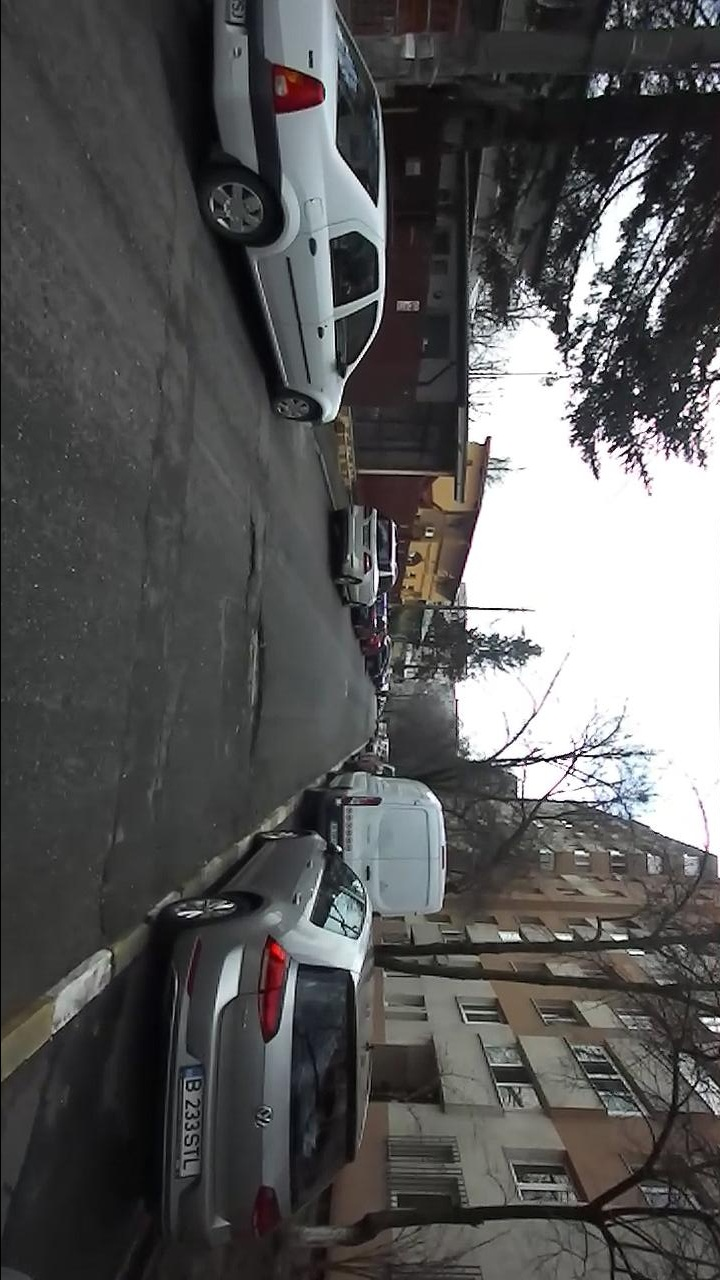pothole: (241, 607, 270, 760), (88, 814, 122, 934), (241, 511, 260, 592)
